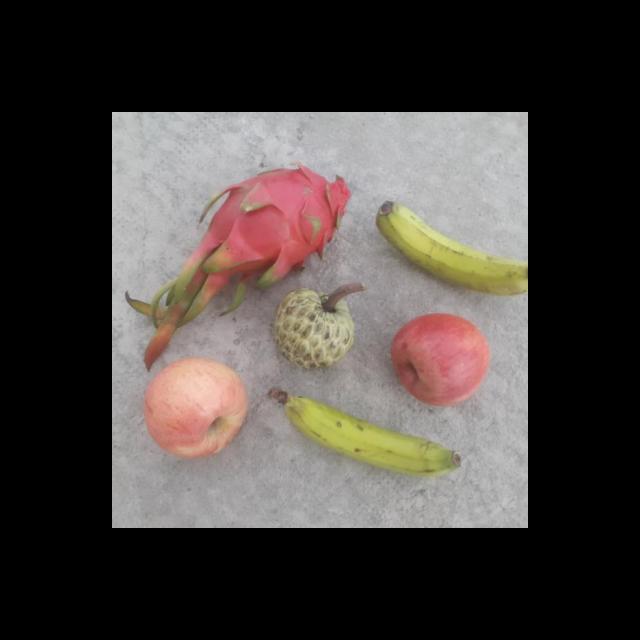Sakya fruit: (272, 287, 362, 372)
apple: (142, 354, 251, 459), (391, 312, 493, 409)
banana: (269, 385, 465, 477), (376, 196, 528, 304)
pitaya: (197, 160, 349, 288)
